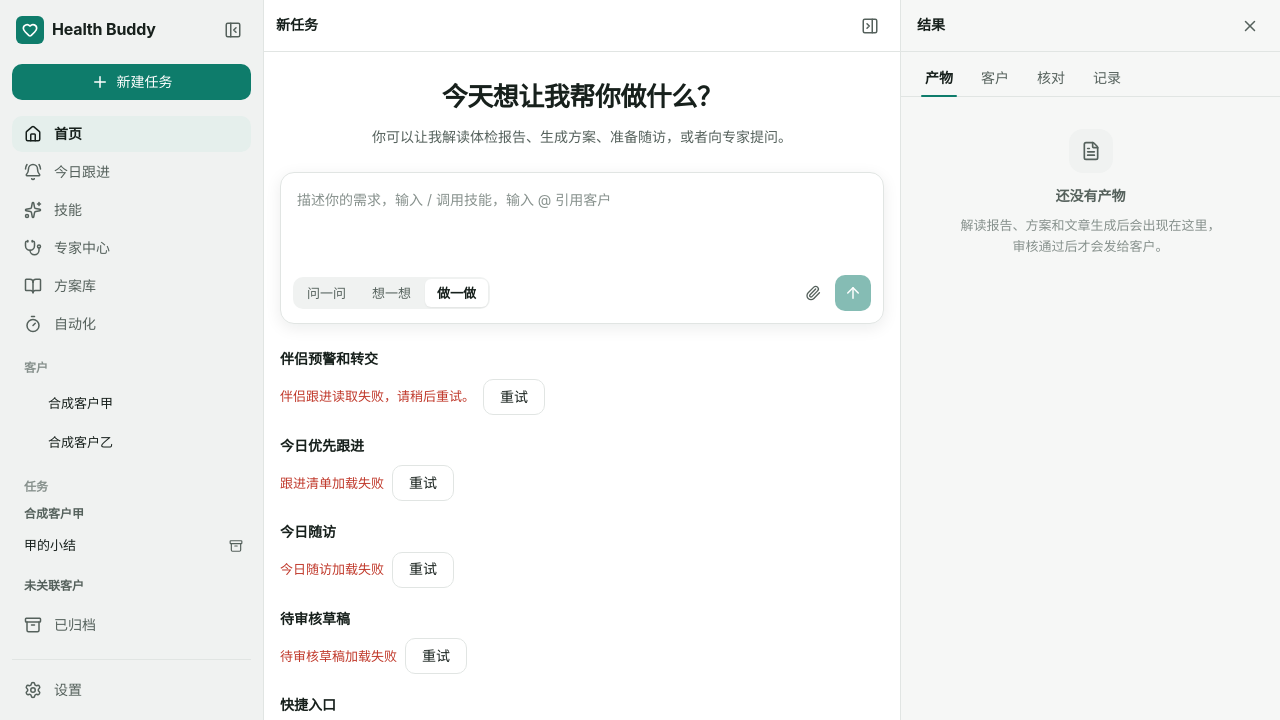
AppShell (wide screen) › closes and reopens the results panel
The width and height of the screenshot is (1280, 720).
Step 1. Click the button named "关闭结果区" in the row of "新任务" → coordinates (870, 26), box [852,8,888,44]
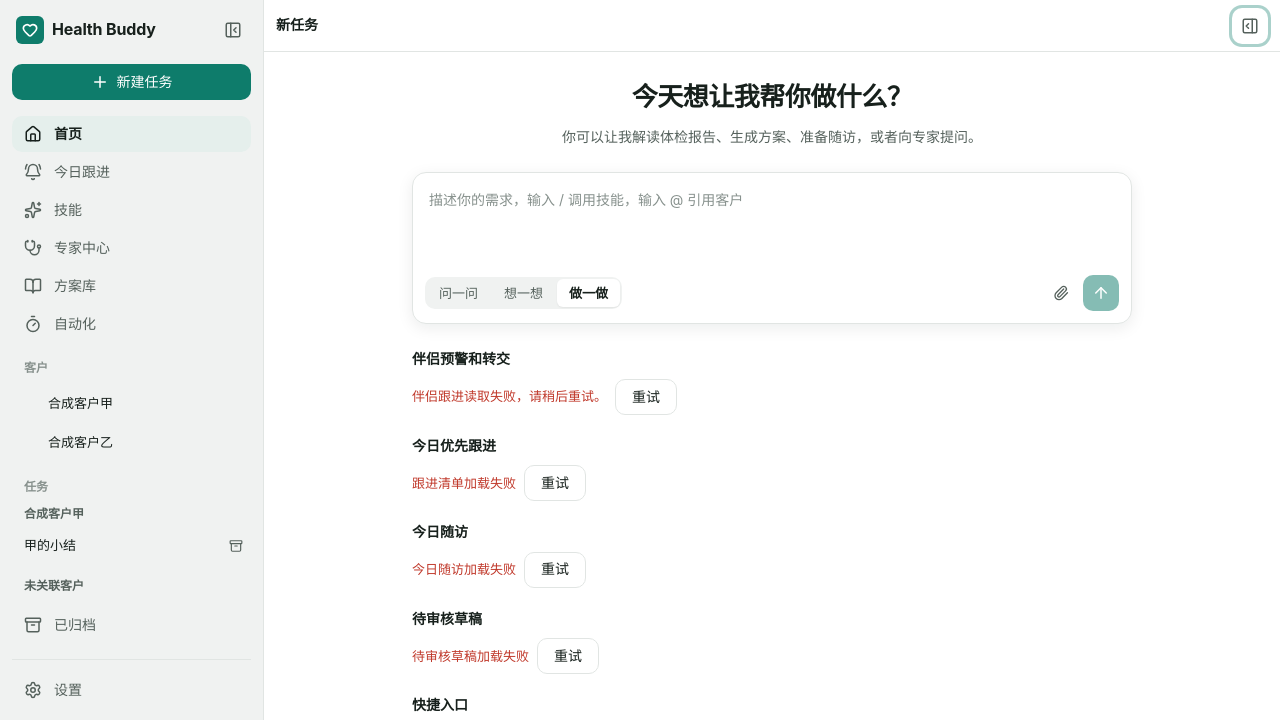
Check: the button named "打开结果区" is collapsed, box [1232,8,1268,44]
